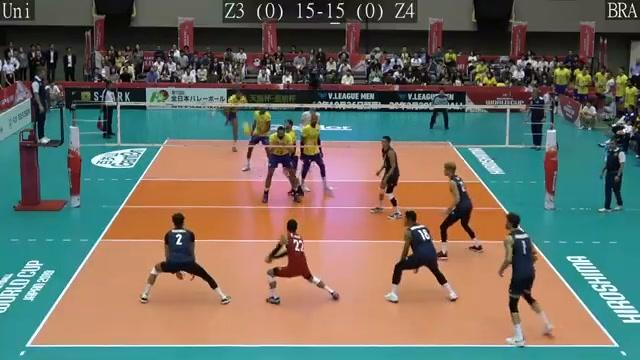ball: (240, 119, 253, 136)
